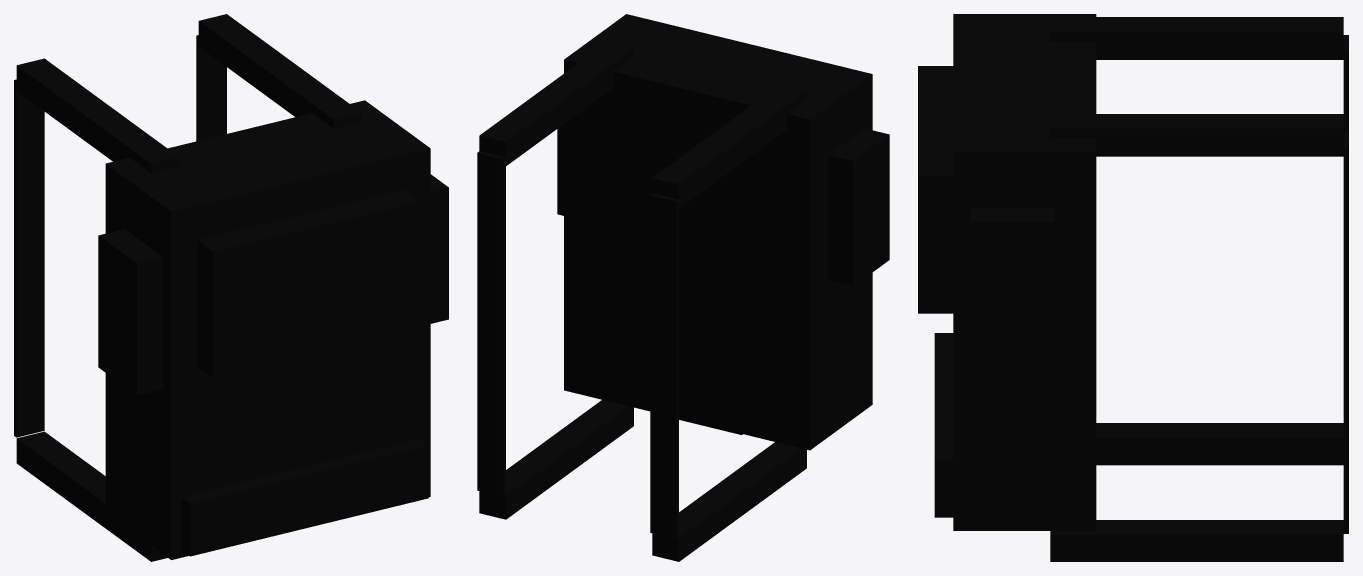
File: body.obj
The picture shows the model from 3 angles, left to right: view 1: azimuth 30°, elevation 25°; view 2: azimuth 150°, elevation 25°; view 3: azimuth 270°, elevation 25°; orthographic projection. The views are drawn at different scales.
Visible parts, largest first — view 1: pack_body, front_pocket, top_flap, right_shoulder_strap, right_side_pocket, left_strap_lower, right_strap_lower, right_strap_top, left_side_pocket, left_shoulder_strap; view 2: pack_body, left_shoulder_strap, right_shoulder_strap, right_side_pocket, left_strap_lower, right_strap_lower, left_strap_top, right_strap_top, left_side_pocket; view 3: pack_body, left_side_pocket, left_strap_top, left_strap_lower, right_strap_lower, right_strap_top, front_pocket, top_flap, left_shoulder_strap, right_shoulder_strap.
Boxes of the visible parts, bbox=[...] form: pack_body: bbox=[105, 100, 430, 559]; front_pocket: bbox=[197, 189, 420, 378]; top_flap: bbox=[181, 439, 428, 556]; right_shoulder_strap: bbox=[14, 79, 44, 437]; right_side_pocket: bbox=[98, 229, 163, 395]; left_strap_lower: bbox=[198, 14, 361, 128]; right_strap_lower: bbox=[16, 58, 179, 172]; right_strap_top: bbox=[16, 431, 167, 561]; left_side_pocket: bbox=[430, 174, 448, 323]; left_shoulder_strap: bbox=[196, 35, 226, 141]; pack_body: bbox=[564, 14, 872, 450]; left_shoulder_strap: bbox=[477, 151, 505, 496]; right_shoulder_strap: bbox=[650, 193, 678, 539]; right_side_pocket: bbox=[828, 128, 889, 286]; left_strap_lower: bbox=[479, 42, 633, 165]; right_strap_lower: bbox=[652, 84, 806, 208]; left_strap_top: bbox=[479, 400, 633, 519]; right_strap_top: bbox=[652, 442, 806, 561]; left_side_pocket: bbox=[557, 124, 563, 215]; pack_body: bbox=[953, 14, 1096, 530]; left_side_pocket: bbox=[971, 207, 1054, 365]; left_strap_top: bbox=[1050, 520, 1343, 561]; left_strap_lower: bbox=[1050, 114, 1343, 156]; right_strap_lower: bbox=[1050, 17, 1343, 59]; right_strap_top: bbox=[1096, 423, 1343, 465]; front_pocket: bbox=[918, 66, 953, 313]; top_flap: bbox=[934, 333, 953, 517]; left_shoulder_strap: bbox=[1343, 132, 1348, 533]; right_shoulder_strap: bbox=[1343, 35, 1348, 131].
Bounding box in the file's own units: 8.9 × 10.85 × 9.78.
